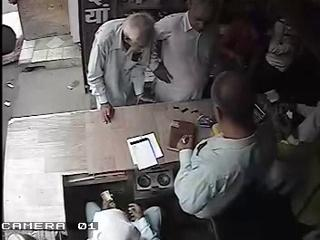Normal: (173, 70, 302, 240), (87, 12, 156, 125), (149, 0, 223, 103), (86, 190, 150, 240)
